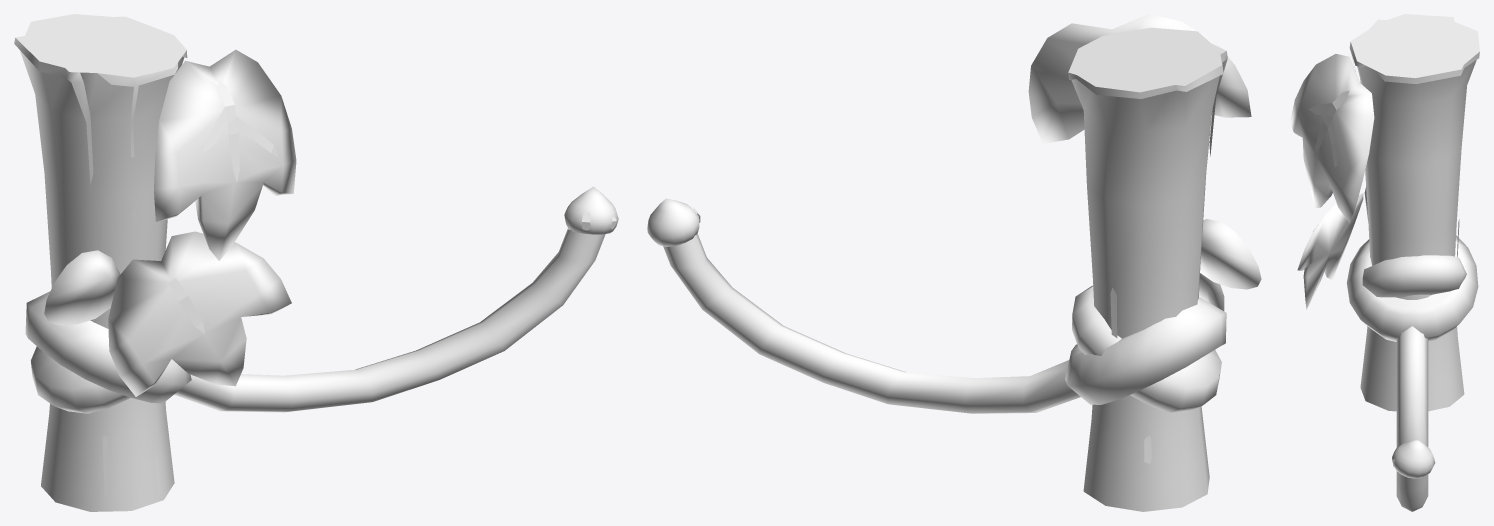
File: Mesh_Home_B_Idyll_17_02_SM.fbx
3 views of the same model, side by side, from view 1: azimuth 30°, elevation 25°; view 2: azimuth 150°, elevation 25°; view 3: azimuth 270°, elevation 25° (orthographic). The views are drawn at different scales.
Visible parts, largest first — view 1: Mesh_Home_B_Idyll_17_02; view 2: Mesh_Home_B_Idyll_17_02; view 3: Mesh_Home_B_Idyll_17_02.
Part boxes in pixels (x1,y1,x2,y2): Mesh_Home_B_Idyll_17_02: (14, 14, 618, 511); Mesh_Home_B_Idyll_17_02: (647, 14, 1261, 511); Mesh_Home_B_Idyll_17_02: (1290, 14, 1479, 511).
Size of the model in its own units: 35.77 by 25.39 by 12.51.
